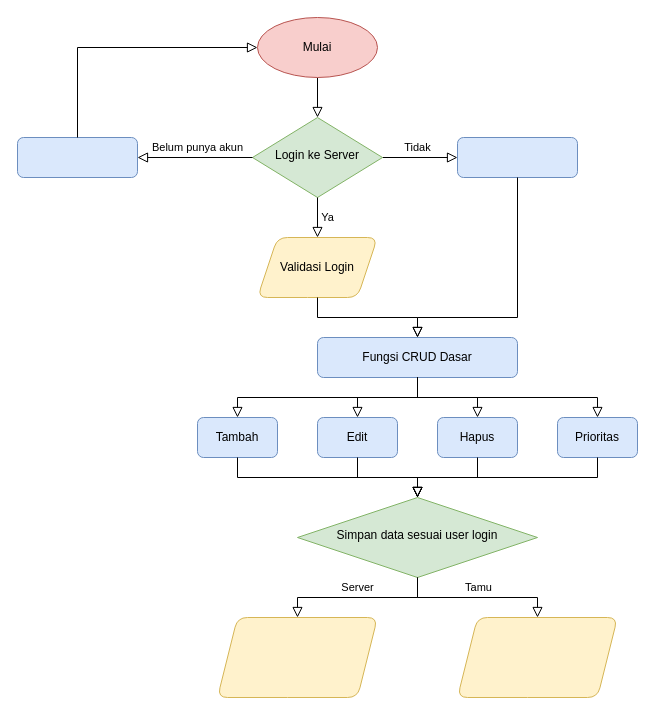
Some shapes in this 655 by 715 pixel diagram are drawn without their labels. The centre of each missing label's shape, as x and y in pixels:
Masuk sebagai Tamu: the point at 517,157
Registrasi akun: the point at 77,157
Simpan data ke Database (Supabase): the point at 297,657
Simpan data ke Web Cookie: the point at 537,657
